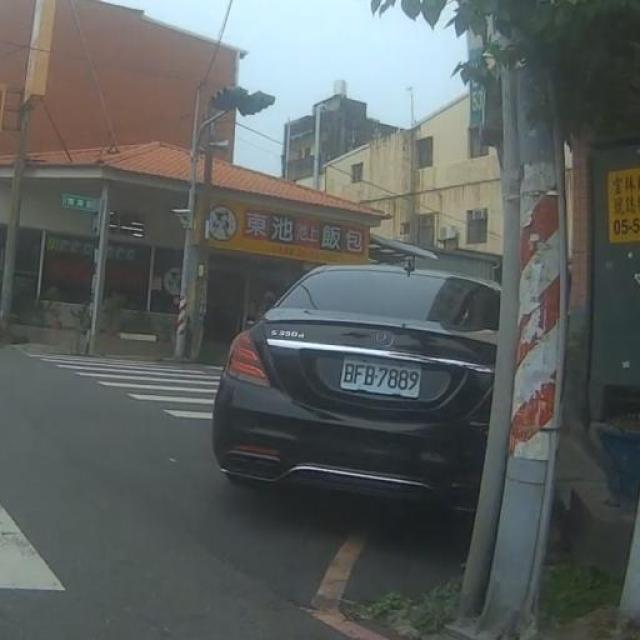illegalparking: (196, 180, 530, 564)
